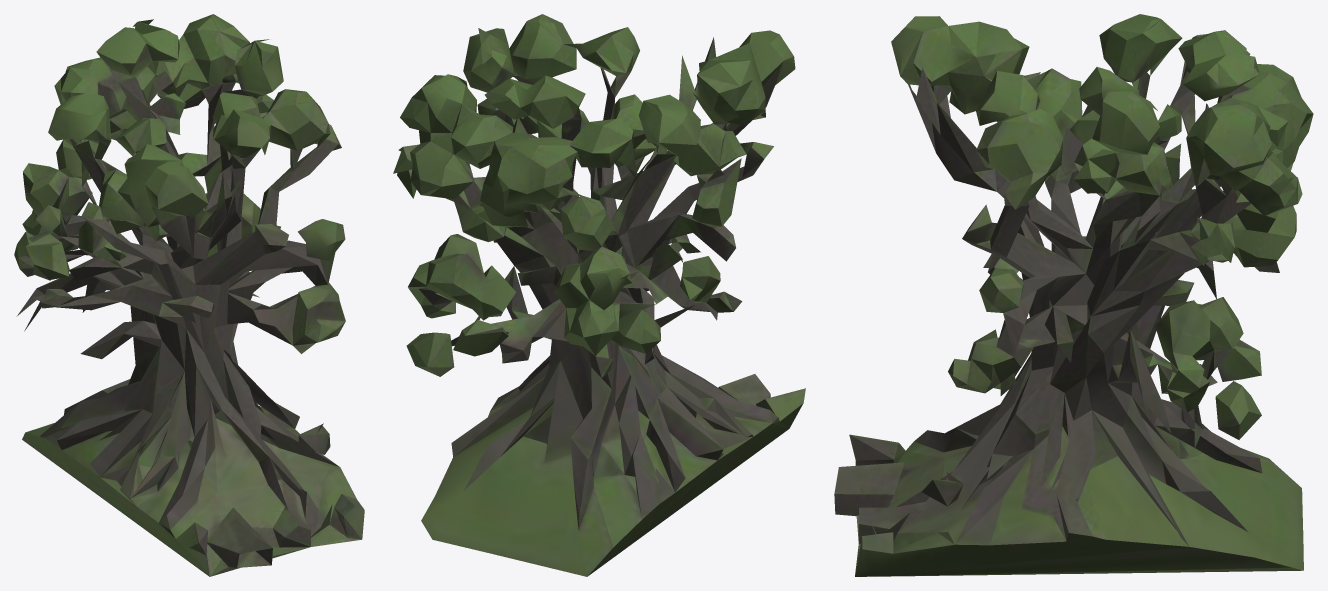
The model's file is oak.glb.
3 views of the same model, side by side, from view 1: azimuth 30°, elevation 25°; view 2: azimuth 150°, elevation 25°; view 3: azimuth 270°, elevation 25° (orthographic). The views are drawn at different scales.
Size of the model in its own units: 1.31 by 1.89 by 1.64.
Materials: 1 (1 with a texture image).
